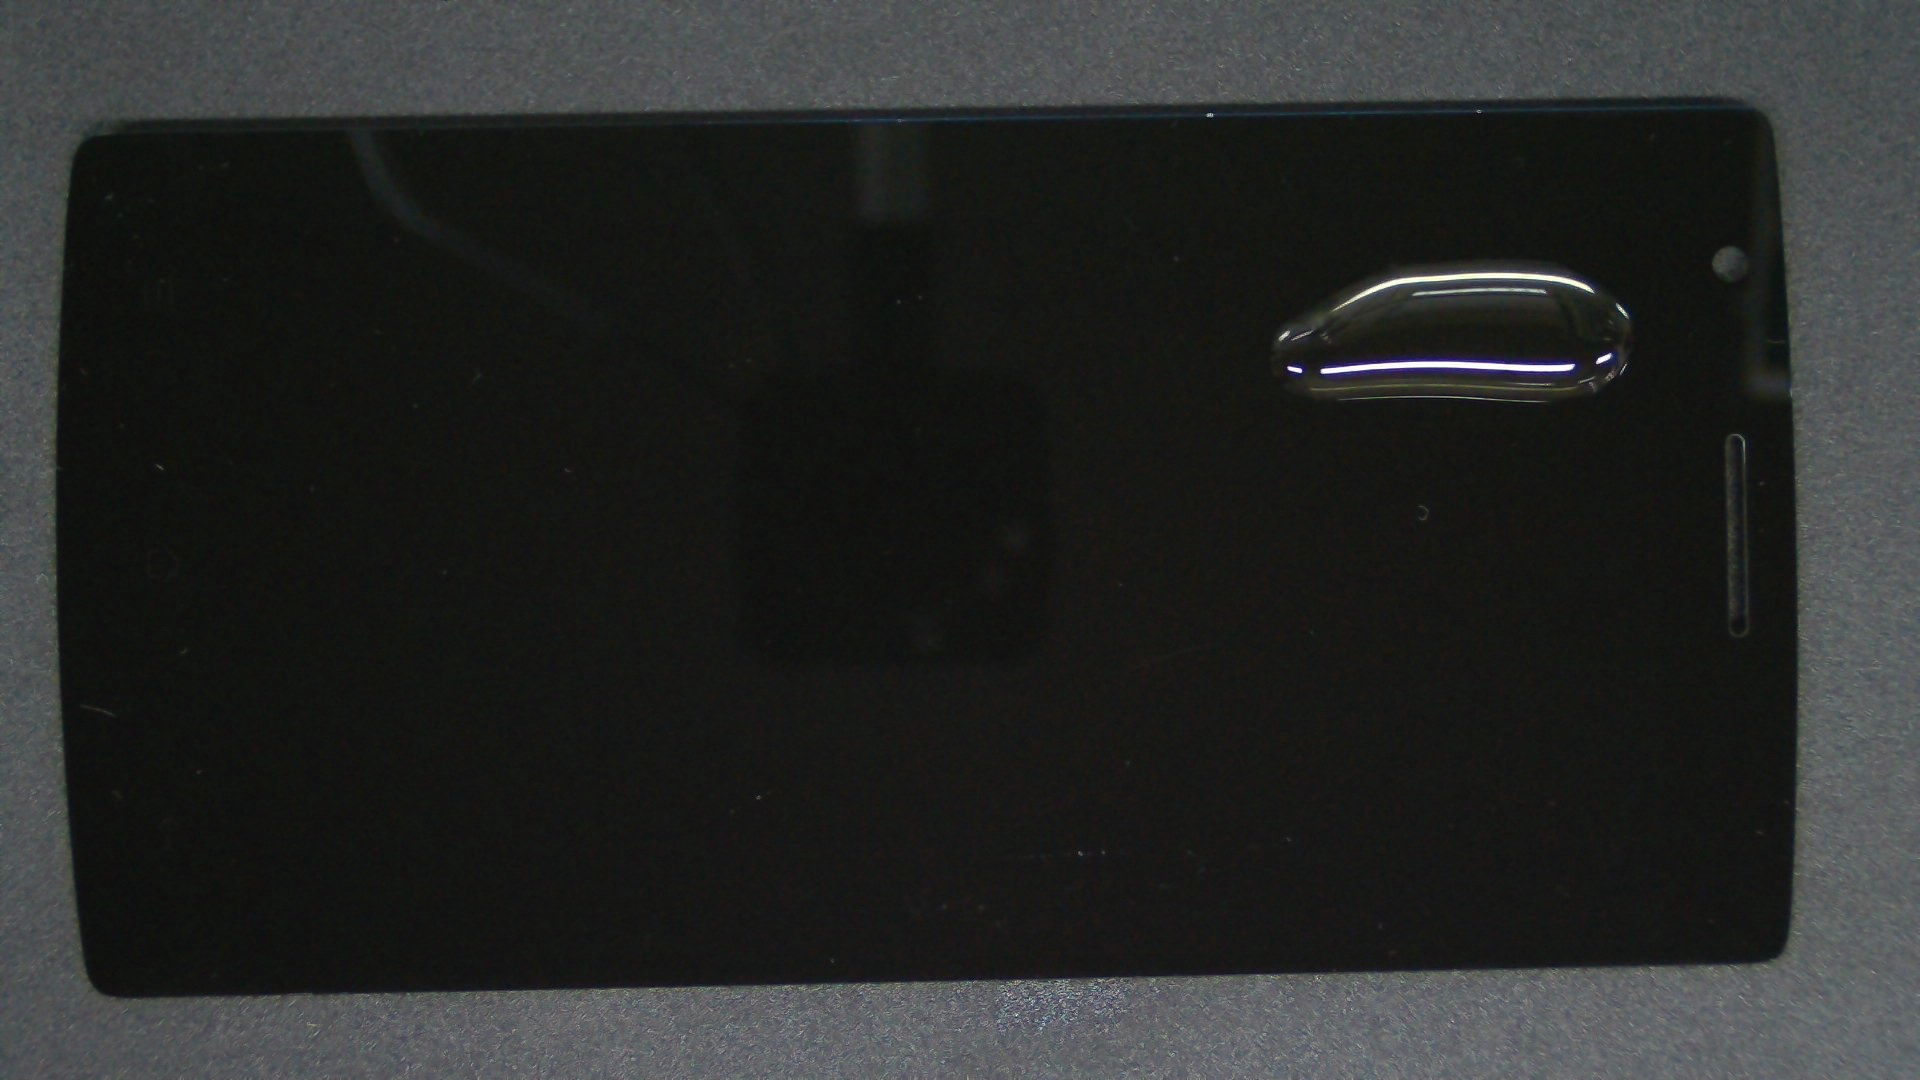oil: (736, 128, 1920, 388)
